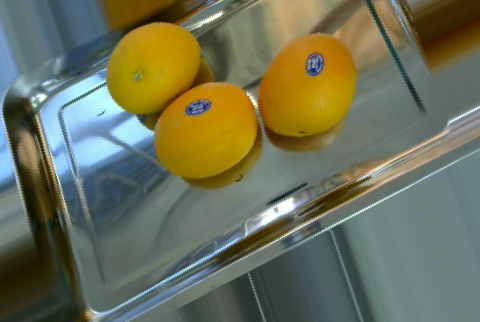Orange: (153, 81, 259, 180), (258, 33, 357, 136), (106, 22, 201, 115)
